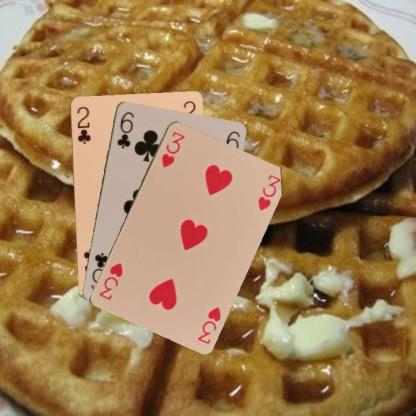2c: (74, 103, 92, 145)
3h: (158, 128, 186, 169), (195, 303, 222, 345)
6c: (114, 108, 135, 150)
